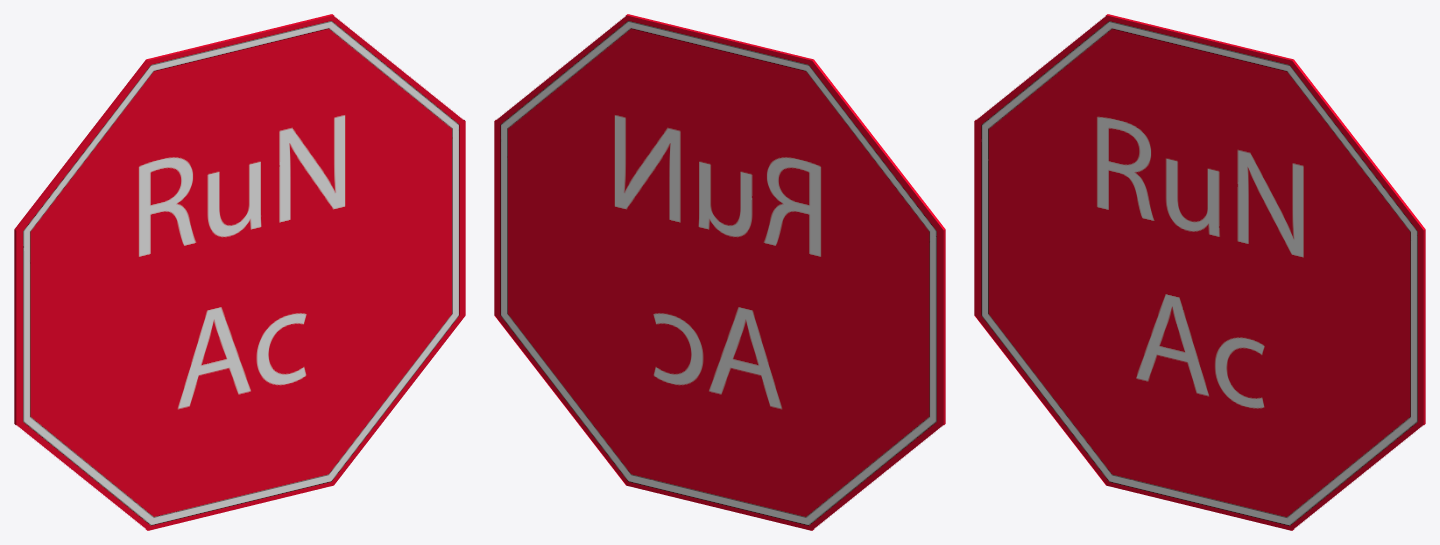
Rendered from RuN_Ac_sign_model.obj.
3 views of the same model, side by side, from view 1: azimuth 30°, elevation 25°; view 2: azimuth 150°, elevation 25°; view 3: azimuth 330°, elevation 25° (orthographic).
Parts seen in each view (by area): view 1: RuN_Ac_sign; view 2: RuN_Ac_sign; view 3: RuN_Ac_sign.
Part boxes in pixels (box(x1,y1,x2,y2)): RuN_Ac_sign: box(14, 14, 465, 530); RuN_Ac_sign: box(494, 14, 945, 530); RuN_Ac_sign: box(974, 14, 1425, 530).
Bounding box in the file's own units: 7.39 × 7.39 × 0.05.
Materials: 1 (1 with a texture image).
